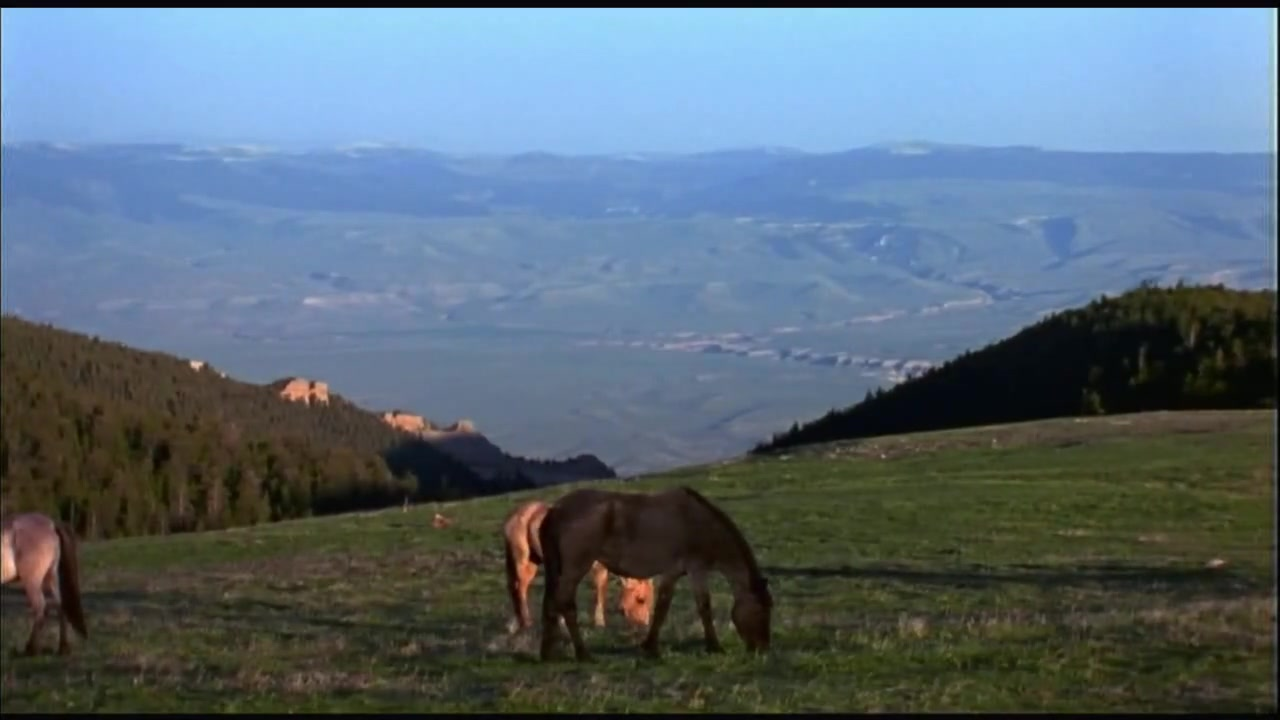horse: (533, 485, 787, 669)
